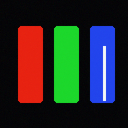4 line_v: (103, 46, 105, 100)
